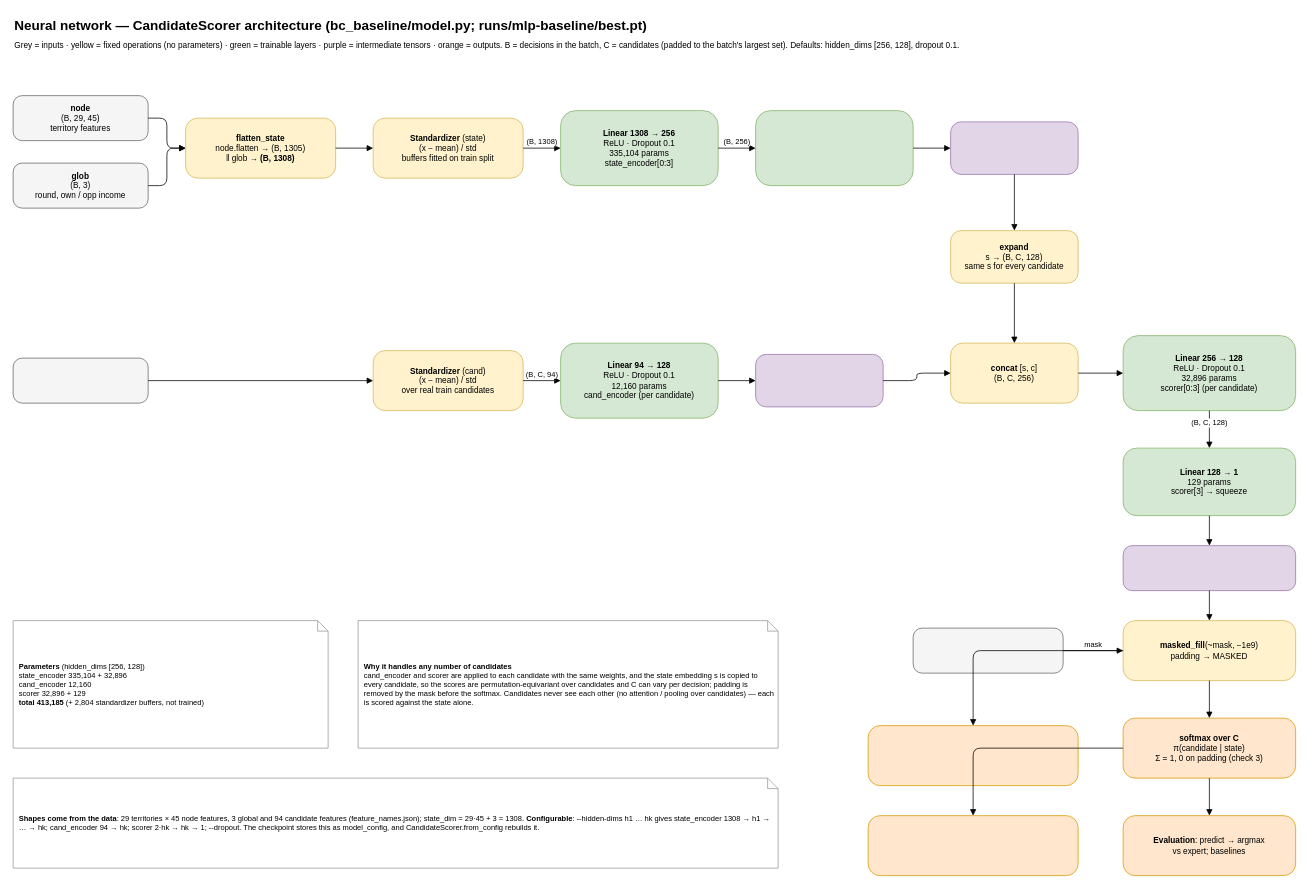
Some shapes in this 1309 by 889 pixel diagram are drawn without their labels. The shapes that lost their labels are listed below. From the top down, each one's box as (x1, y1, x2, y2) in pixels, then its label:
(755, 110, 913, 186): Linear 256 → 128 ReLU · Dropout 0.1 32,896 params state_encoder[3:6]
(950, 121, 1078, 174): s (B, 128) state embedding
(12, 357, 148, 403): cand (B, C, 94) candidate features
(755, 354, 883, 407): c (B, C, 128) candidate embeddings
(1122, 545, 1296, 591): scores (B, C)
(912, 627, 1063, 673): mask (B, C) bool True = real candidate
(867, 725, 1078, 786): tripleMind-bc : BCPolicy.choose argmax → generator index (B = 1)
(867, 815, 1078, 876): Training : cross_entropy(scores, expert_index) Adam on the training split only
